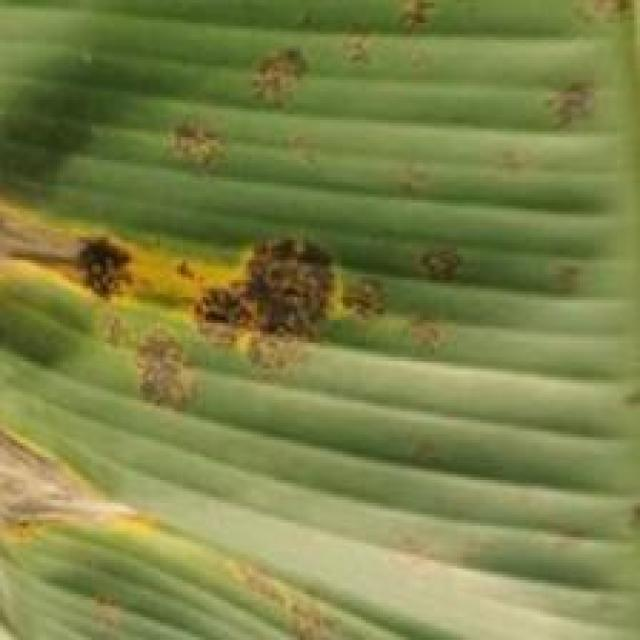Downey_mildrew: (3, 119, 629, 433), (0, 405, 403, 640), (235, 1, 639, 140)
